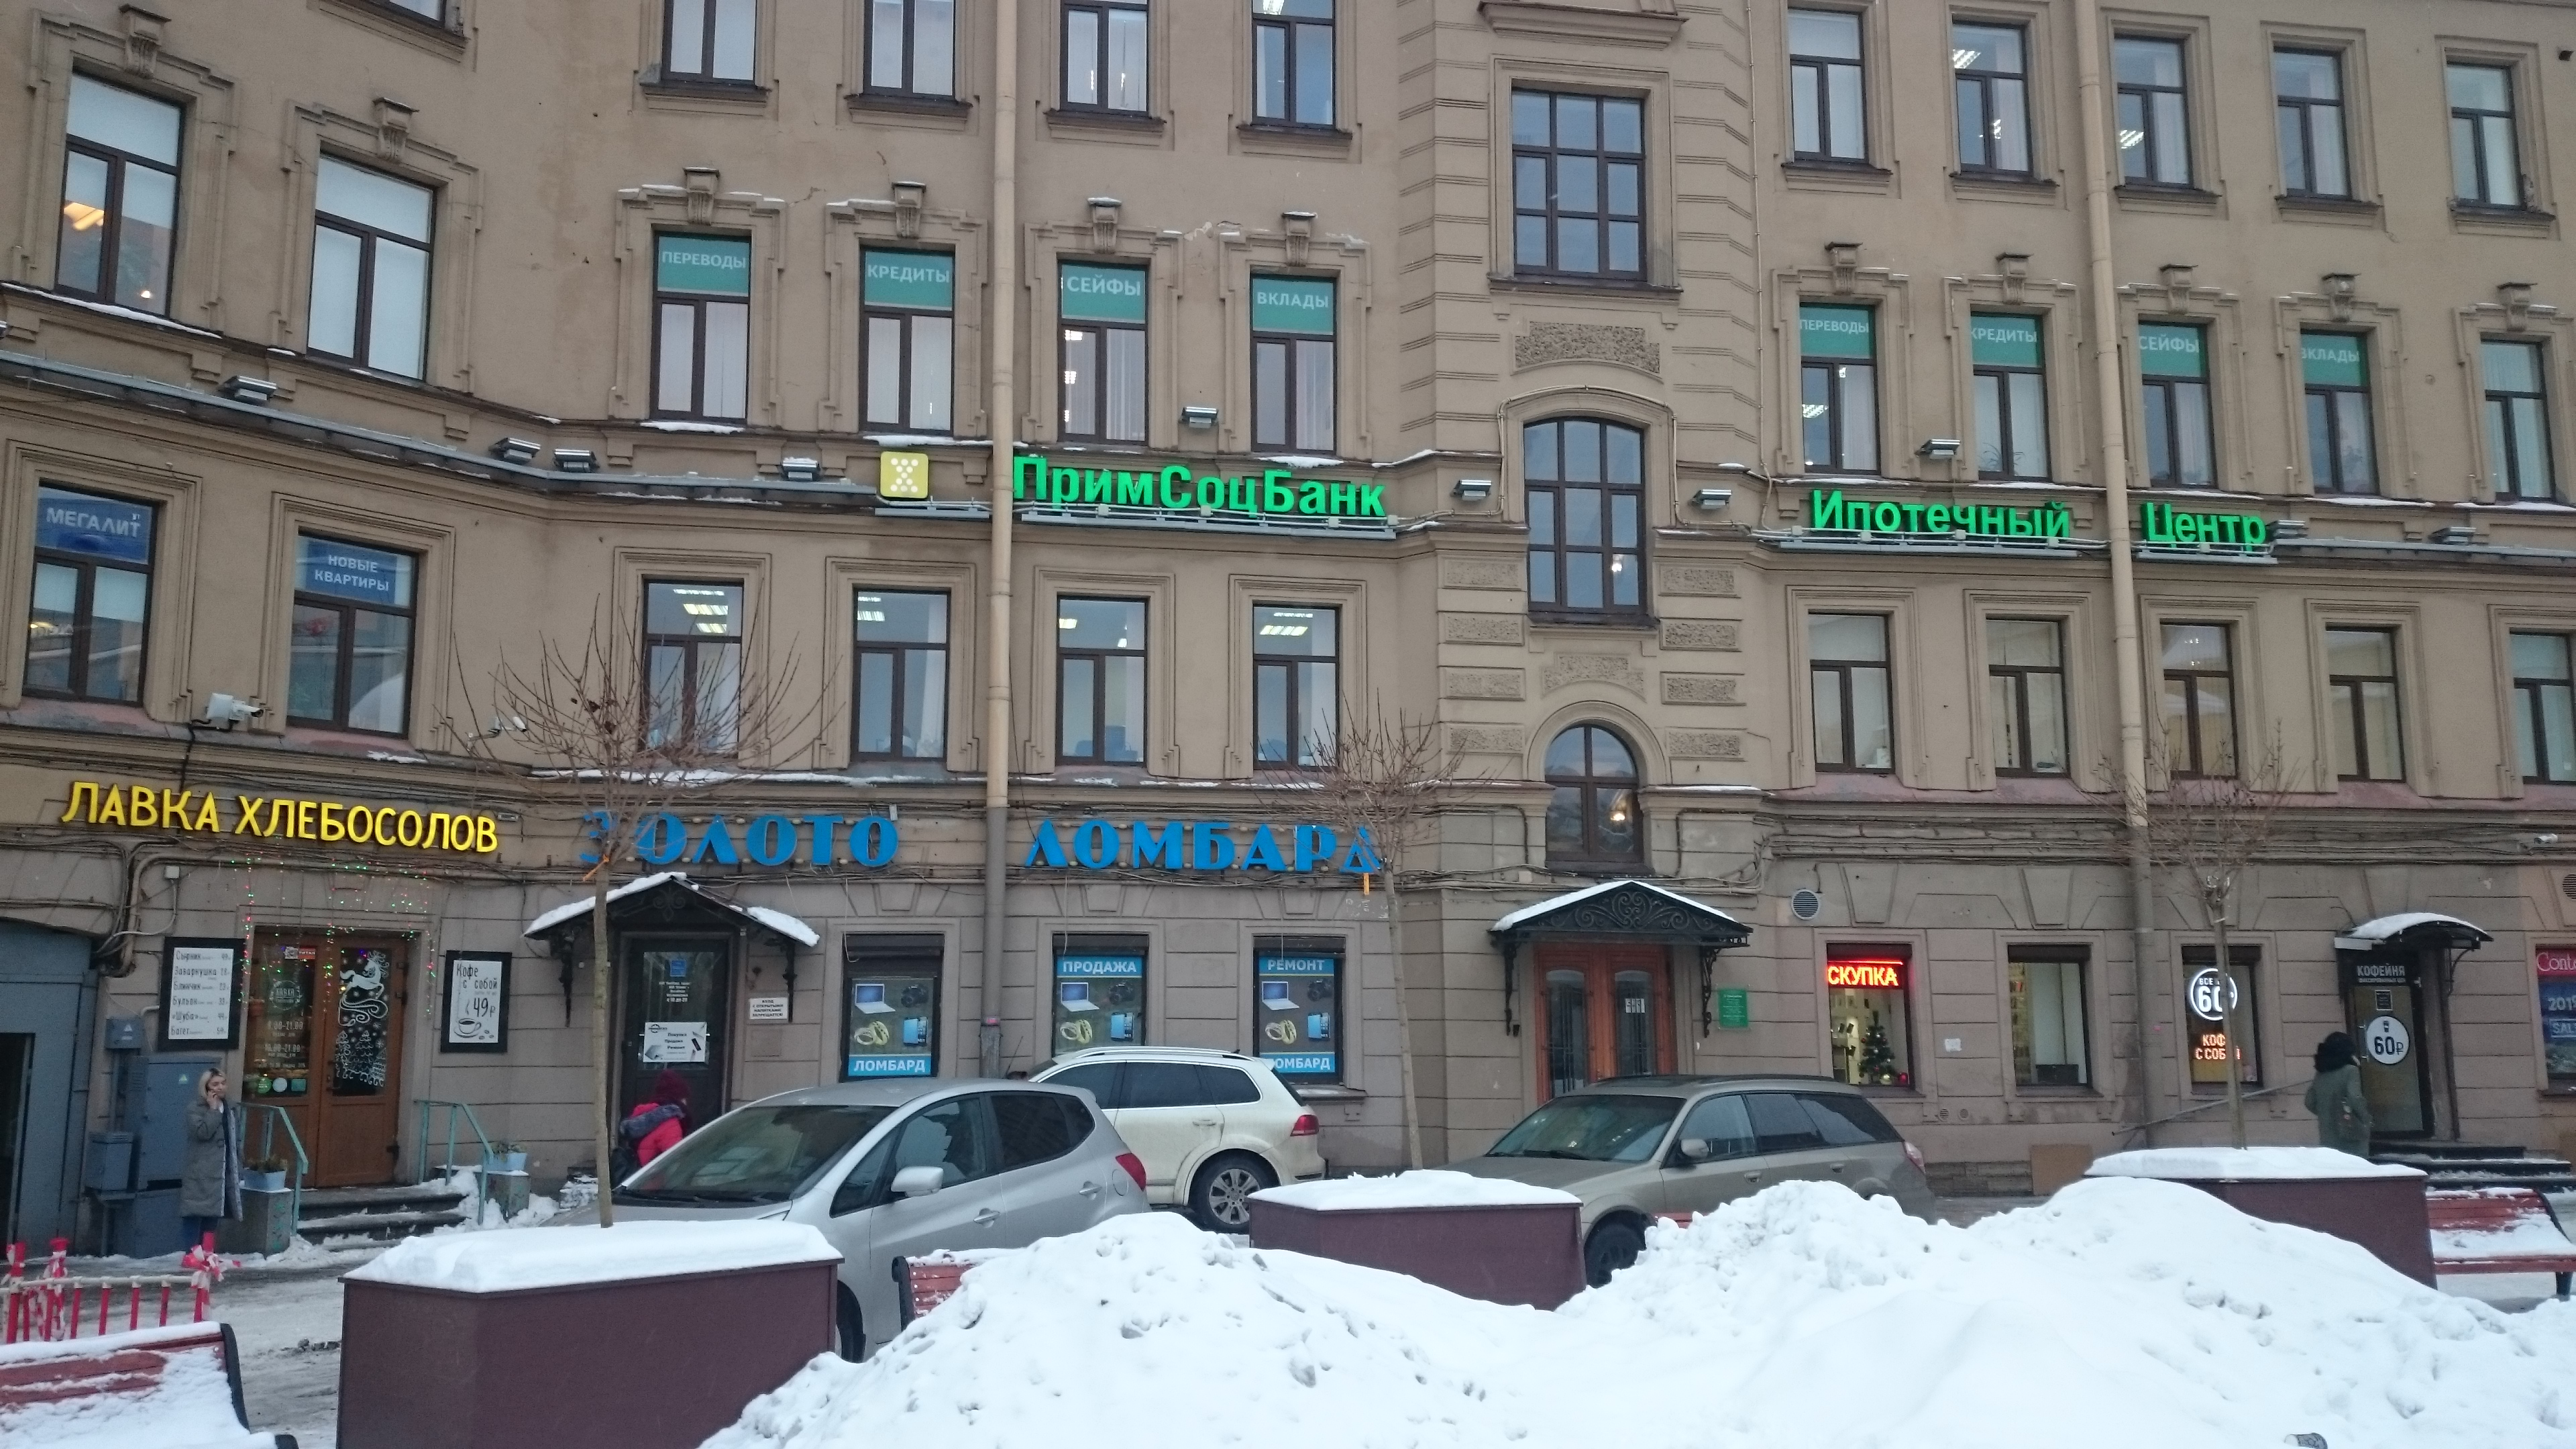door: (258, 929, 410, 1192), (617, 936, 732, 1166), (1541, 952, 1681, 1090), (2350, 947, 2445, 1138)
signboard: (582, 810, 1385, 879), (55, 778, 495, 862), (1812, 485, 2270, 557), (1014, 448, 1389, 518), (879, 446, 932, 497)
win_ad: (1260, 957, 1336, 1072), (849, 973, 932, 1072), (1060, 957, 1141, 1044), (2187, 964, 2249, 1072), (862, 241, 959, 306), (1058, 257, 1150, 324), (656, 230, 747, 292), (1801, 299, 1879, 366), (1251, 272, 1330, 338), (2300, 331, 2374, 391), (2139, 320, 2210, 377), (1973, 311, 2040, 366)
window: (313, 134, 439, 400), (1522, 407, 1660, 628), (62, 64, 179, 313), (1507, 90, 1658, 281), (280, 552, 410, 727), (844, 591, 970, 766), (646, 230, 755, 418), (860, 242, 954, 437), (1044, 605, 1152, 773), (642, 580, 738, 770), (1801, 603, 1905, 775), (2291, 315, 2385, 504), (1960, 308, 2061, 478), (2259, 39, 2362, 205), (1053, 260, 1152, 430), (1249, 269, 1339, 451), (1545, 718, 1645, 878), (1982, 616, 2072, 786), (2440, 60, 2534, 219), (2327, 630, 2417, 794), (2141, 329, 2231, 492), (1263, 603, 1343, 778), (2001, 952, 2098, 1093), (2480, 336, 2560, 508), (2160, 621, 2242, 782), (1953, 16, 2033, 175), (1253, 939, 1341, 1083), (1805, 299, 1872, 481), (1789, 2, 1863, 159), (2180, 952, 2261, 1090), (2109, 34, 2181, 186), (1831, 947, 1909, 1086), (2509, 637, 2574, 786), (846, 971, 931, 1074), (1054, 955, 1145, 1049)
